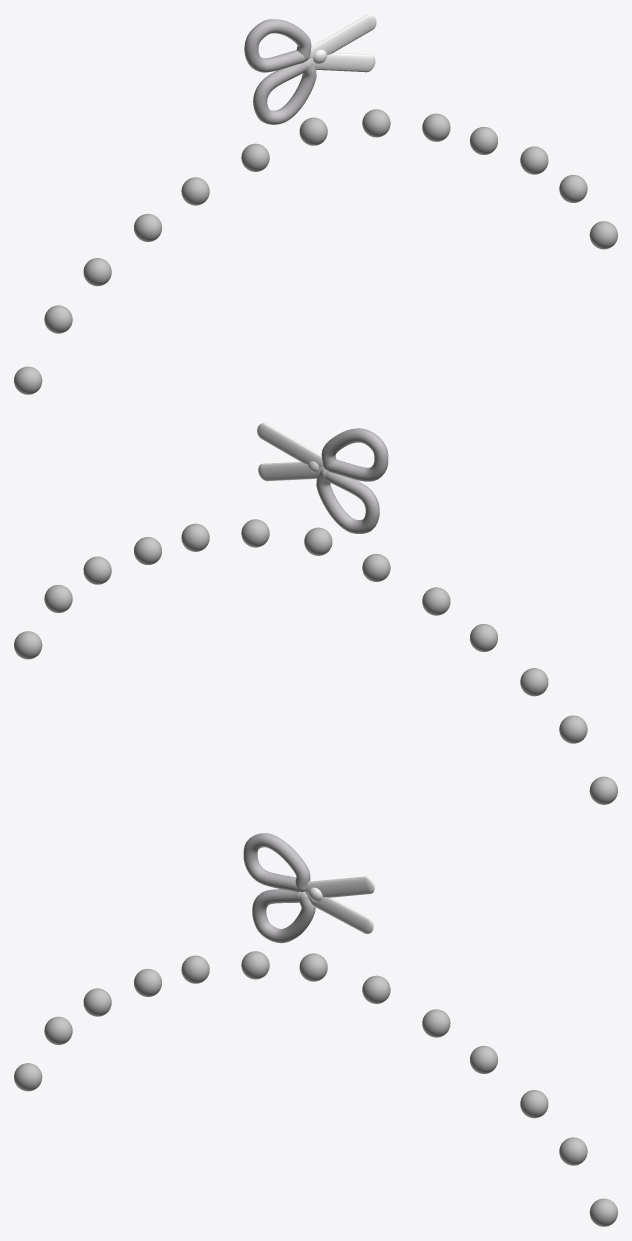
Rendered from connected_new.fbx.
3 renders of one model, top to bottom at view 1: azimuth 30°, elevation 25°; view 2: azimuth 150°, elevation 25°; view 3: azimuth 330°, elevation 25°, orthographic.
Parts seen in each view (by area): view 1: root (×13), node_id32, node_id30, node_id34, node_id36; view 2: root (×13), node_id32, node_id30, node_id34, node_id36; view 3: root (×13), node_id30, node_id32, node_id34, node_id36.
Boxes of the visible parts, x1=… form: root (×13): x1=14, y1=109, x2=617, y2=394; node_id32: x1=253, y1=59, x2=316, y2=124; node_id30: x1=244, y1=19, x2=311, y2=72; node_id34: x1=309, y1=14, x2=376, y2=58; node_id36: x1=308, y1=52, x2=375, y2=72; root (×13): x1=14, y1=519, x2=617, y2=804; node_id32: x1=316, y1=468, x2=379, y2=533; node_id30: x1=321, y1=428, x2=388, y2=481; node_id34: x1=257, y1=423, x2=323, y2=467; node_id36: x1=258, y1=461, x2=323, y2=481; root (×13): x1=14, y1=951, x2=617, y2=1226; node_id30: x1=243, y1=833, x2=310, y2=892; node_id32: x1=252, y1=889, x2=315, y2=943; node_id34: x1=305, y1=876, x2=374, y2=897; node_id36: x1=304, y1=890, x2=373, y2=933.
Size of the model in its own units: 0.6129 by 0.3072 by 0.025.
Materials: 6 (5 with a texture image).
